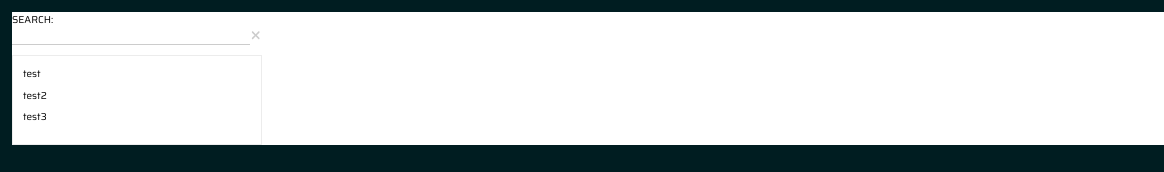
SearchSelector › should only show matching list items from search
Step 1. Type "test2" into the field → x=131, y=36, box left=12, top=27, right=250, bottom=45
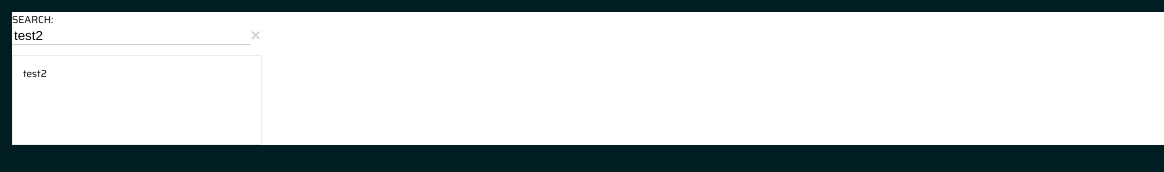
expect the number of list items "test2" is 1: met, box left=23, top=66, right=47, bottom=81
